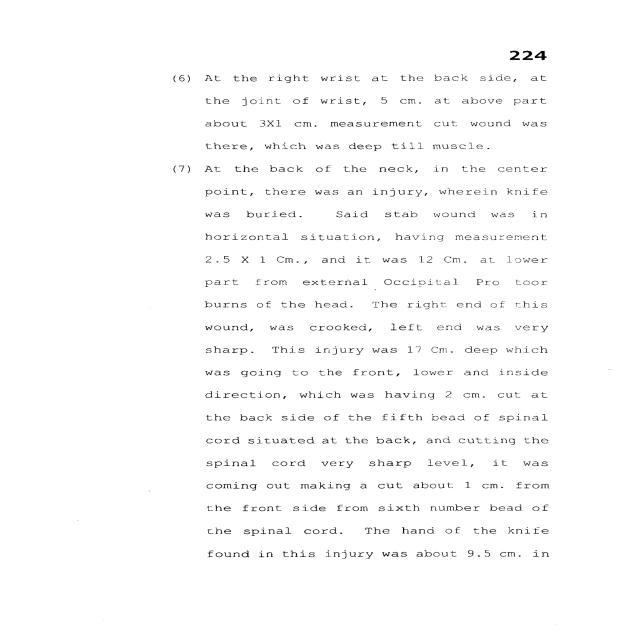page-number: (428, 2, 630, 68)
